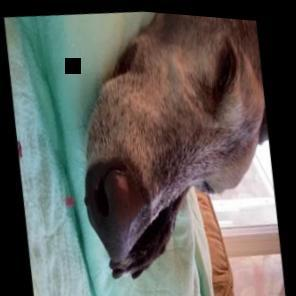nasal_discharge: (58, 167, 114, 224)
